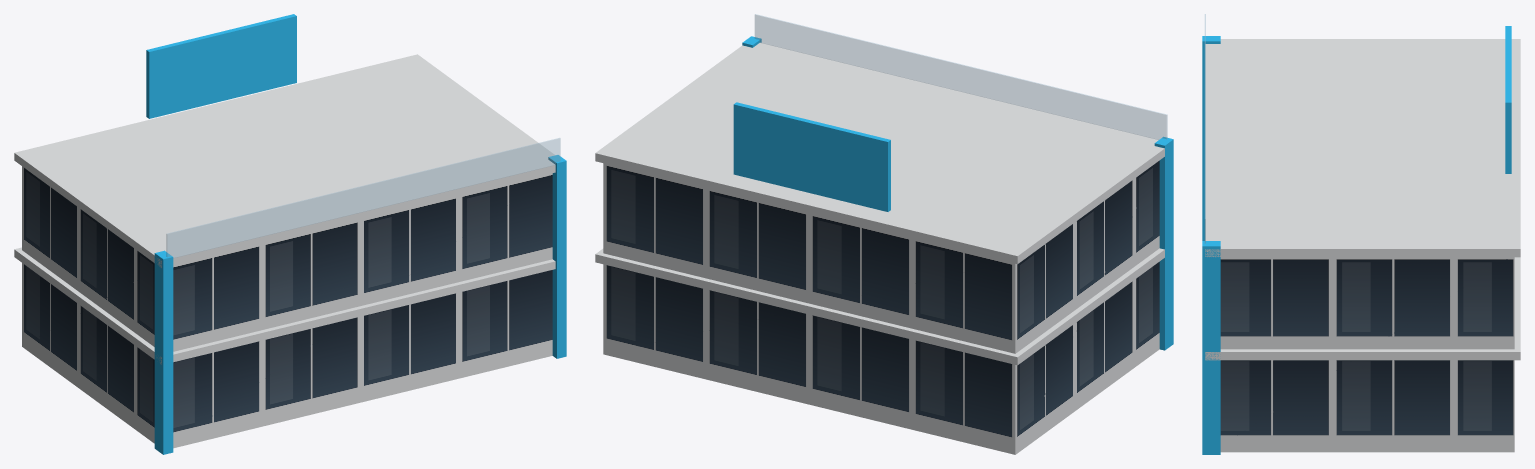
The model's file is hospitality_b.glb.
The picture shows the model from 3 angles, left to right: view 1: azimuth 30°, elevation 25°; view 2: azimuth 150°, elevation 25°; view 3: azimuth 270°, elevation 25°; orthographic projection. The views are drawn at different scales.
Visible parts, largest first — view 1: hospitality; view 2: hospitality; view 3: hospitality.
Boxes of the visible parts, x1=… form: hospitality: x1=14, y1=14, x2=566, y2=454; hospitality: x1=595, y1=14, x2=1173, y2=454; hospitality: x1=1202, y1=14, x2=1520, y2=454.
Bounding box in the file's own units: 16.4 × 10.4 × 10.5.
4 materials, 1 textured.
